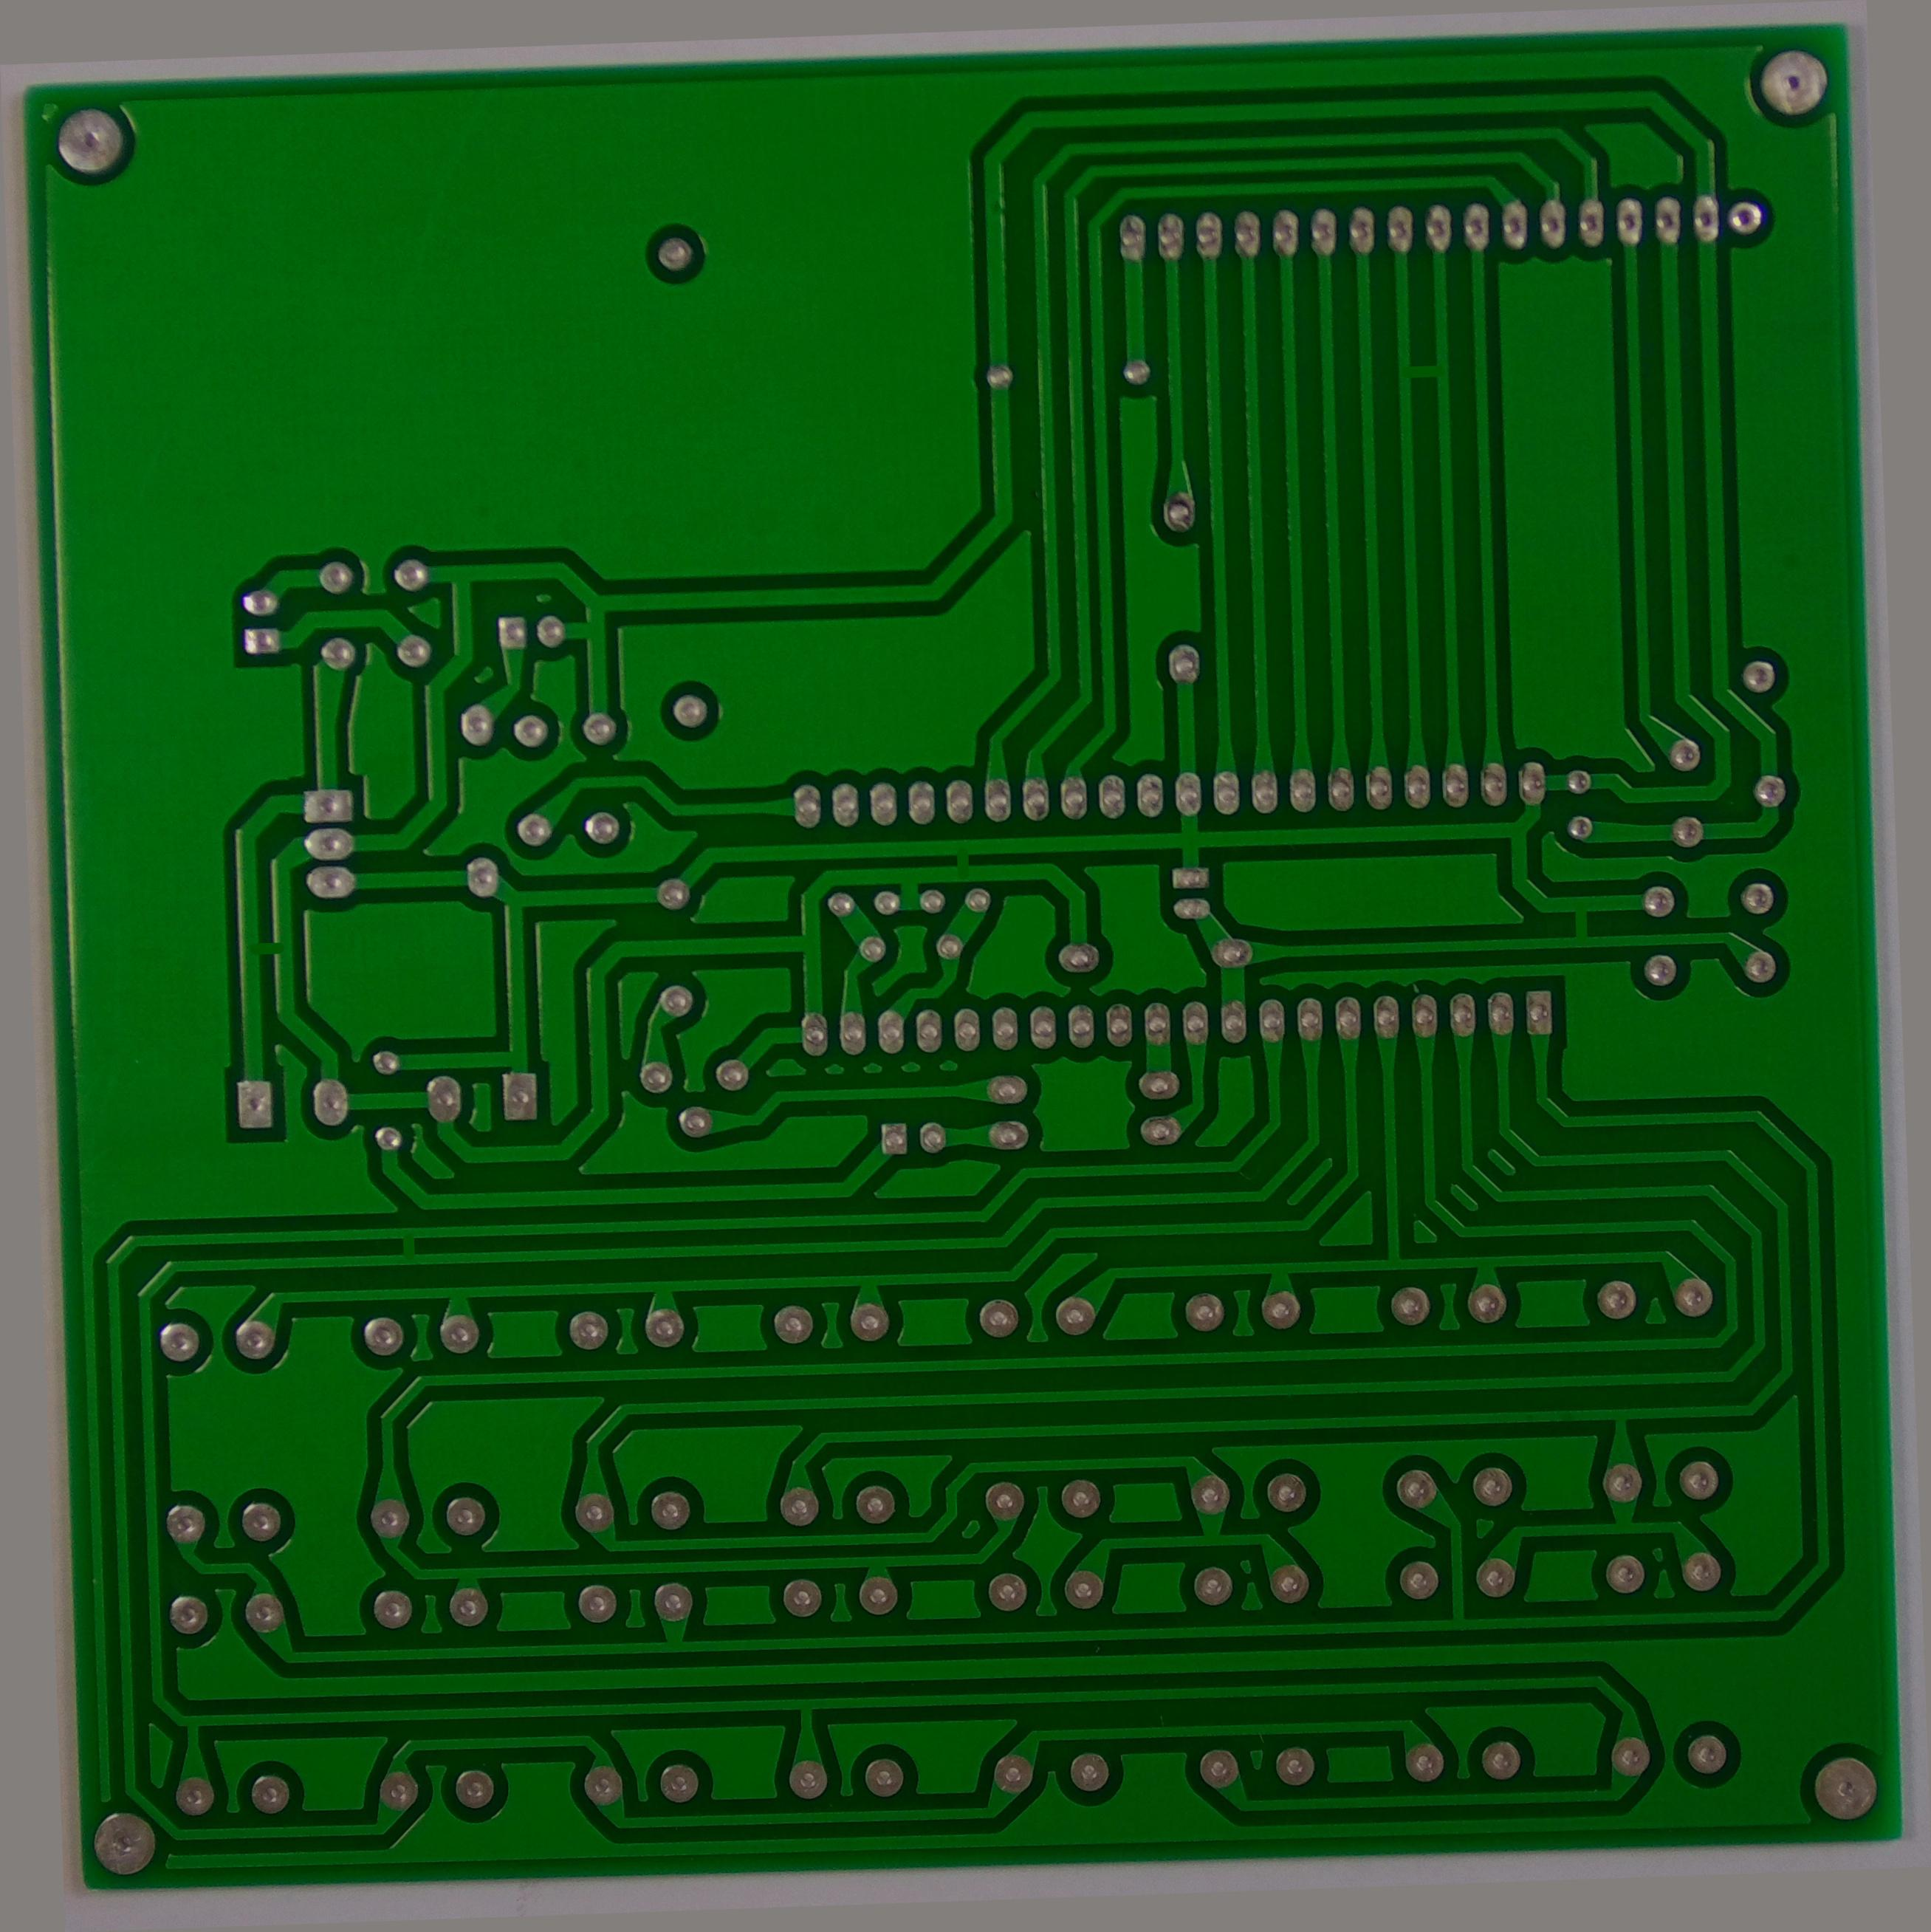short: (1556, 883, 1604, 957), (233, 922, 304, 971), (1388, 347, 1457, 395), (385, 1219, 428, 1274), (935, 833, 980, 879)
